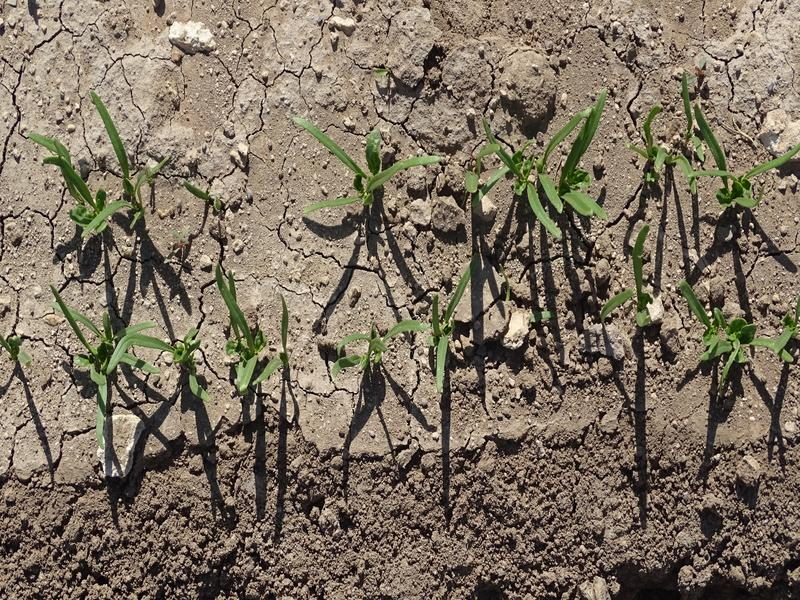Espinaca: (634, 82, 797, 208), (26, 96, 162, 246), (61, 284, 205, 416), (286, 111, 441, 227), (464, 118, 612, 232), (344, 265, 476, 381), (670, 277, 793, 368), (215, 261, 270, 398), (605, 231, 657, 328)
